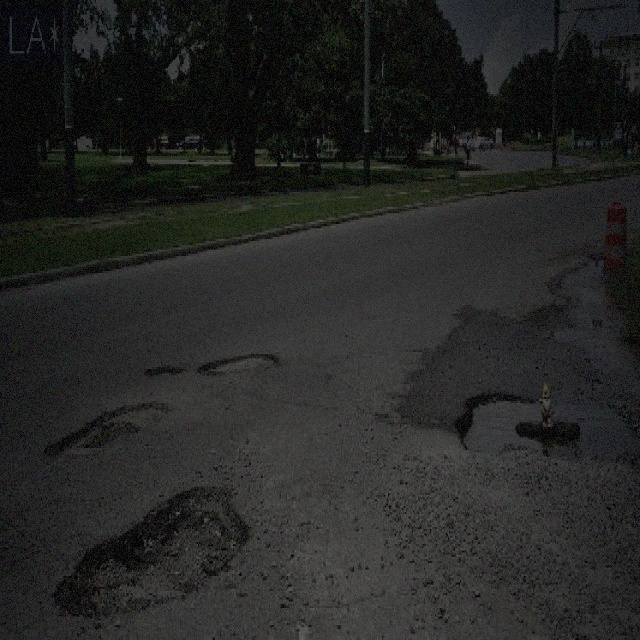pothole: (52, 482, 251, 625), (452, 384, 638, 467), (42, 397, 171, 461), (195, 350, 278, 371), (143, 362, 184, 378)
